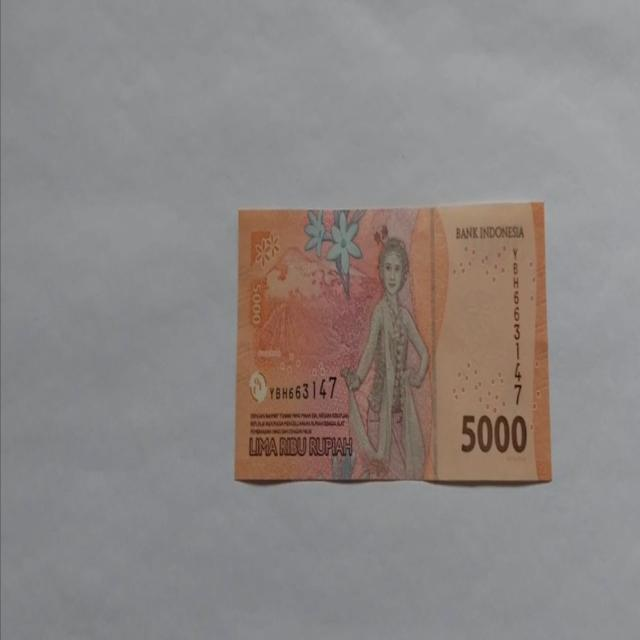lima ribu rupiah: (234, 200, 552, 486), (339, 235, 431, 480)
